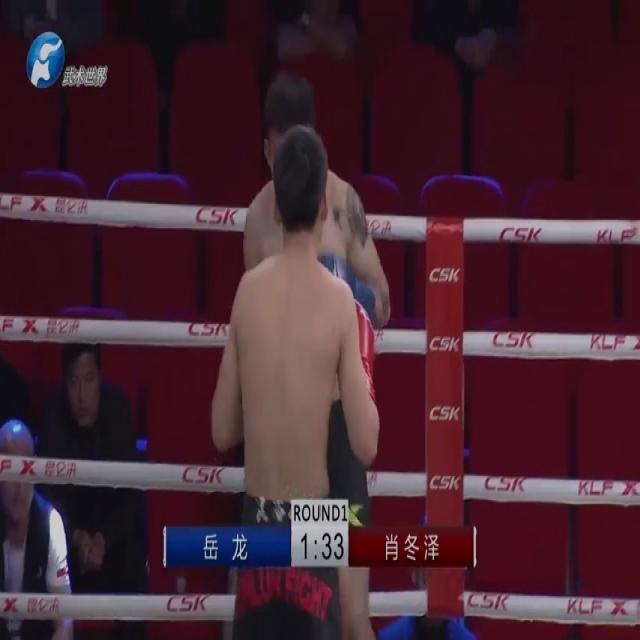fight: (192, 68, 402, 639)
non-fight: (38, 339, 148, 636), (0, 417, 73, 637)
